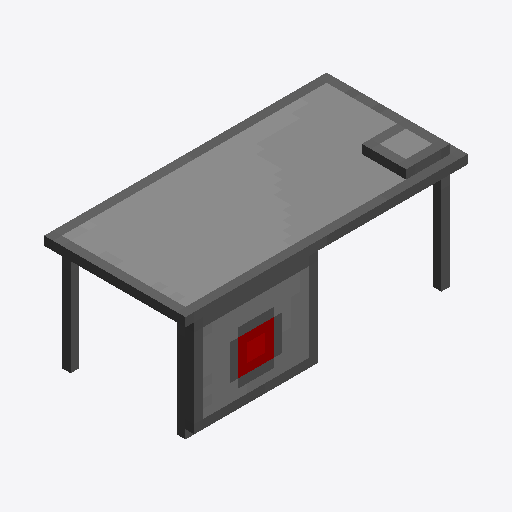
Isometric view (azimuth 45°, elevation 35.3°) of a Minecraft model made of 7 cuboids, textured from the same repository.
Visible parts, largest first — table, back, blueprint, leg1, leg4, leg3.
Part boxes in pixels (x1,y1,x2,y2): table: (44,73,467,326); back: (185,251,317,433); blueprint: (362,119,449,178); leg1: (62,256,78,372); leg4: (433,175,449,291); leg3: (177,323,193,438).
Size of the model in its own units: 32 by 14 by 16.